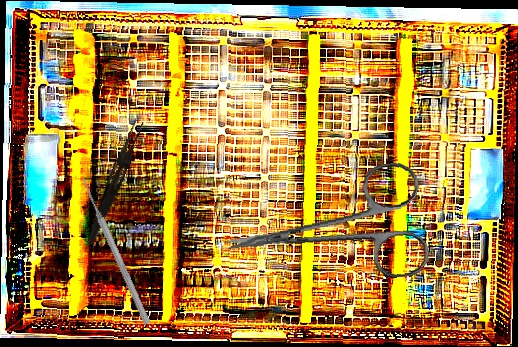Dressing Forceps: (84, 117, 145, 248)
Iris Scissors: (217, 160, 432, 298)
Pusher: (78, 176, 153, 326)
